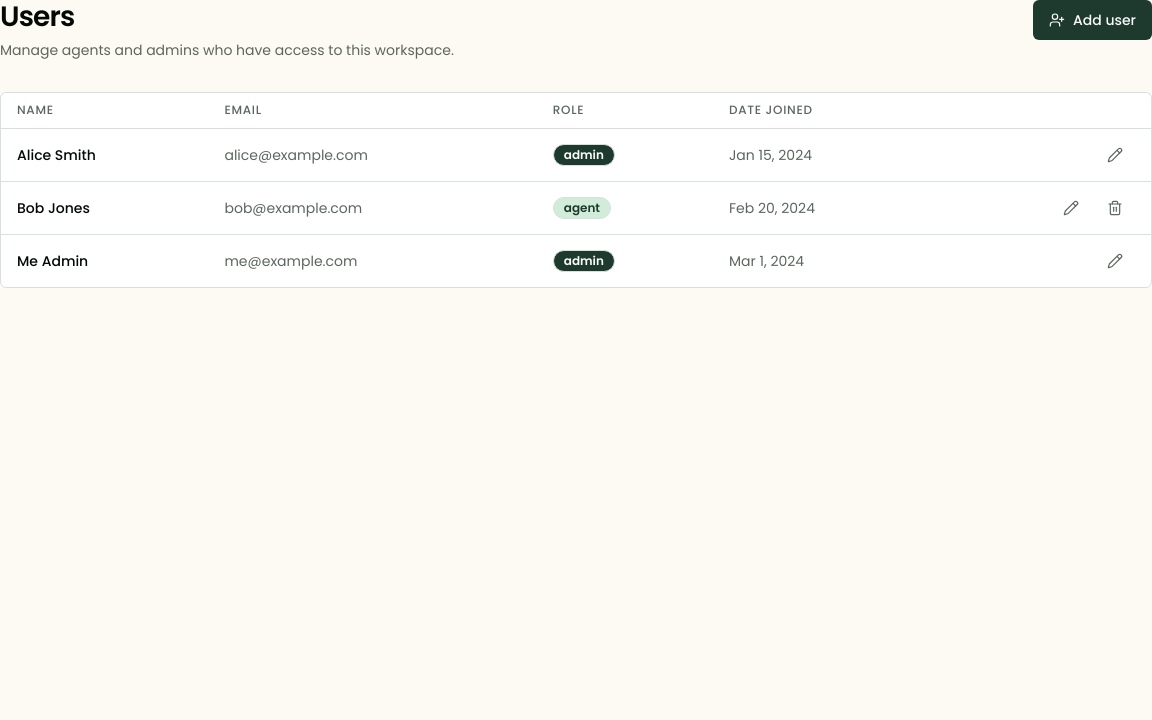
Scenario: UsersPage — delete user › opens a confirmation dialog when delete is clicked
Expected: the text "Bob Jones" is shown, x1=1 y1=182 x2=208 y2=235
Click the button named "delete bob jones": (1115, 208) x1=1095 y1=190 x2=1135 y2=226
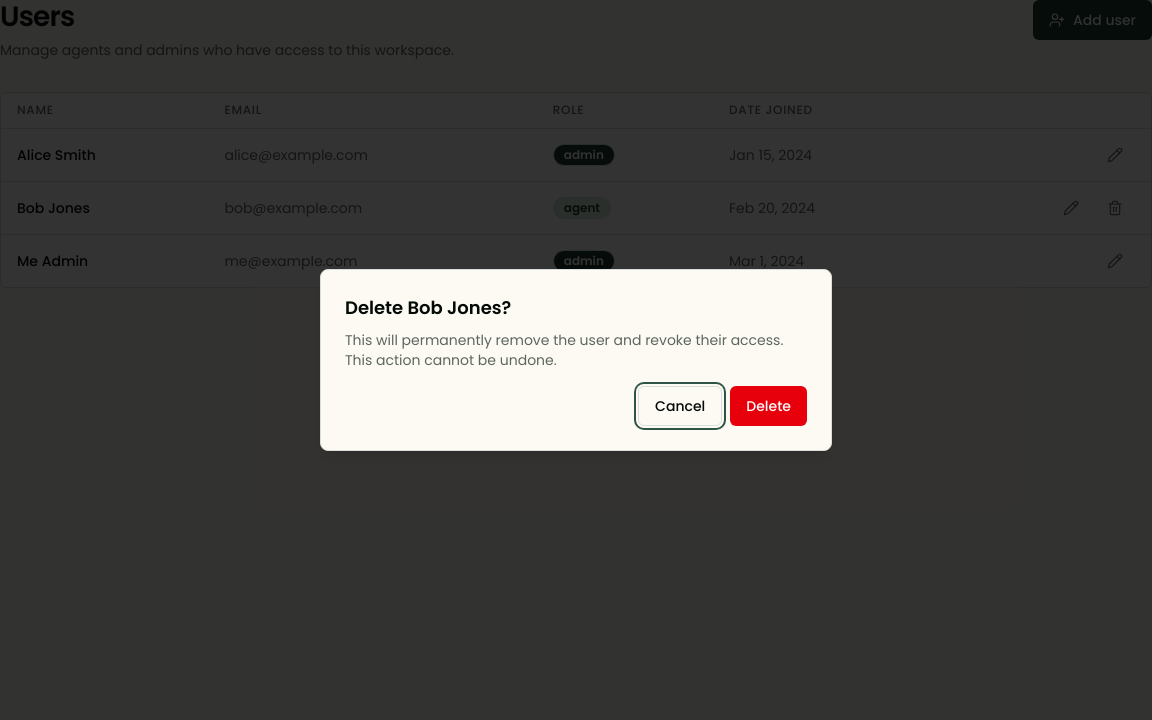
Expected: the heading "Delete Bob Jones?" is shown, x1=345 y1=295 x2=511 y2=320
Expected: the text "revoke their access" is shown, x1=345 y1=330 x2=783 y2=370
